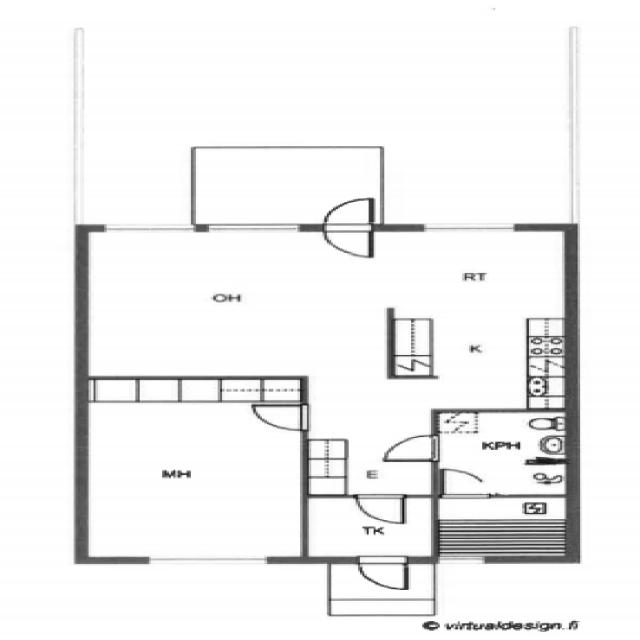door: (318, 196, 381, 258), (354, 553, 414, 596), (351, 491, 411, 527), (381, 432, 444, 466), (246, 402, 311, 434), (432, 466, 494, 498)
window: (427, 493, 579, 562), (136, 551, 278, 567), (195, 218, 313, 236), (411, 220, 530, 236), (94, 219, 210, 235), (436, 556, 493, 567)
zone: (80, 225, 388, 384), (77, 389, 308, 559), (387, 227, 569, 411), (434, 409, 573, 496), (430, 494, 576, 559)
